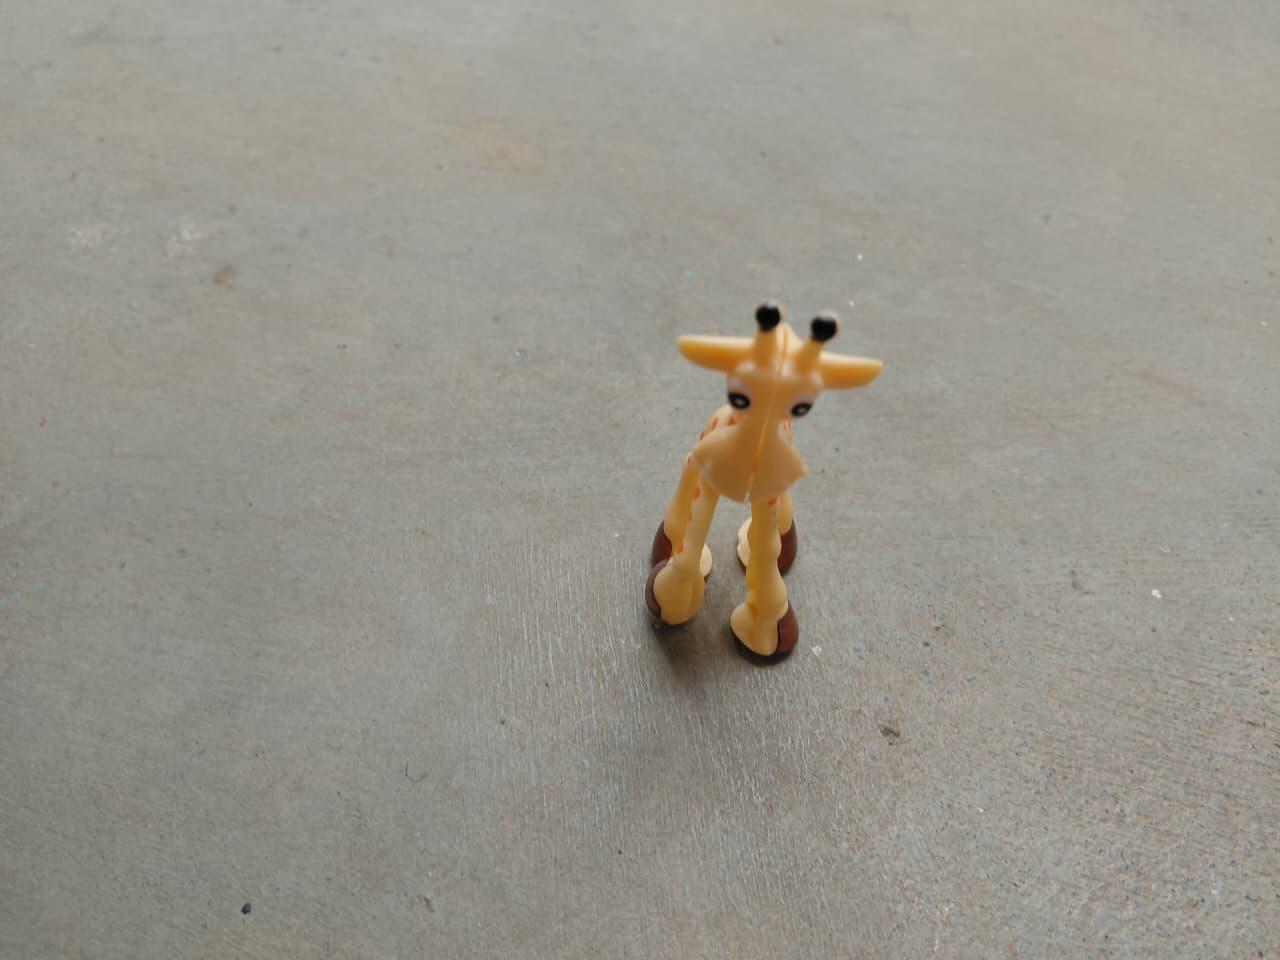giraffe: (616, 244, 893, 689)
